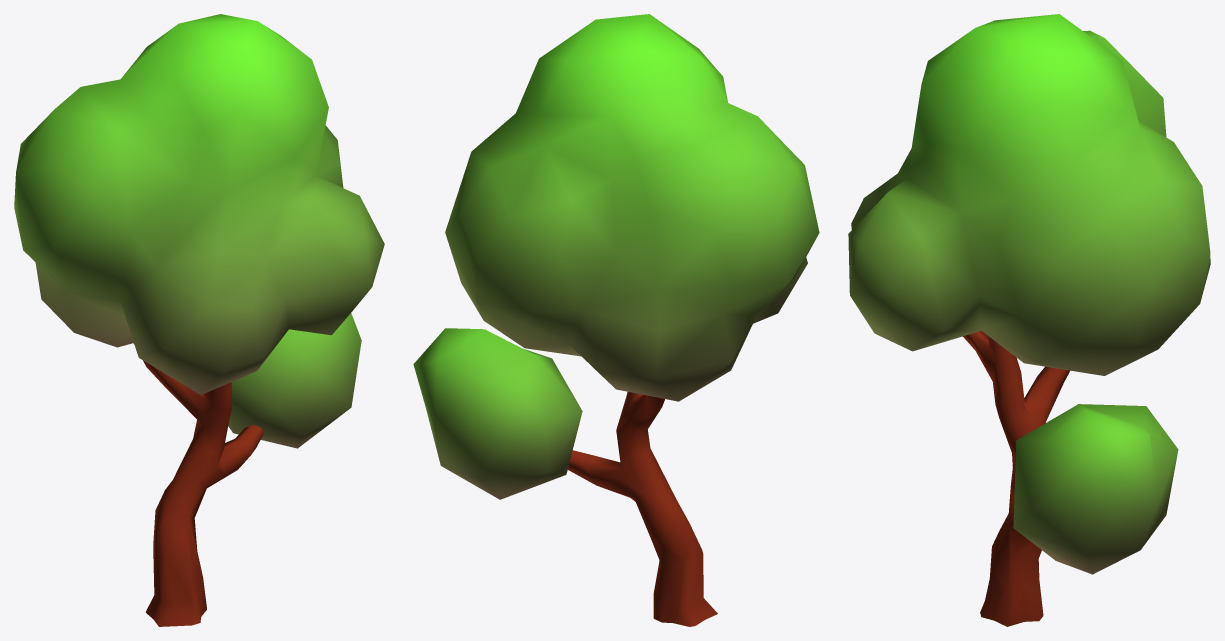
Rendered from Plants_Tree_1.fbx.
The picture shows the model from 3 angles, left to right: view 1: azimuth 30°, elevation 25°; view 2: azimuth 150°, elevation 25°; view 3: azimuth 270°, elevation 25°; orthographic projection. The views are drawn at different scales.
Parts seen in each view (by area): view 1: Plants_Tree_1_LOD0; view 2: Plants_Tree_1_LOD0; view 3: Plants_Tree_1_LOD0.
Part boxes in pixels (bbox=[...]): Plants_Tree_1_LOD0: bbox=[14, 14, 384, 626]; Plants_Tree_1_LOD0: bbox=[413, 14, 819, 626]; Plants_Tree_1_LOD0: bbox=[848, 14, 1210, 626].
Size of what is drawn, in the model's own units: 495 by 779 by 417.
